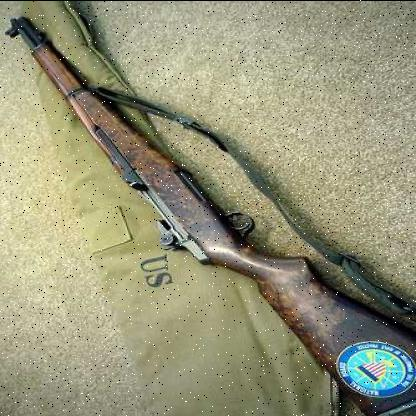rifle: (10, 6, 415, 416)
